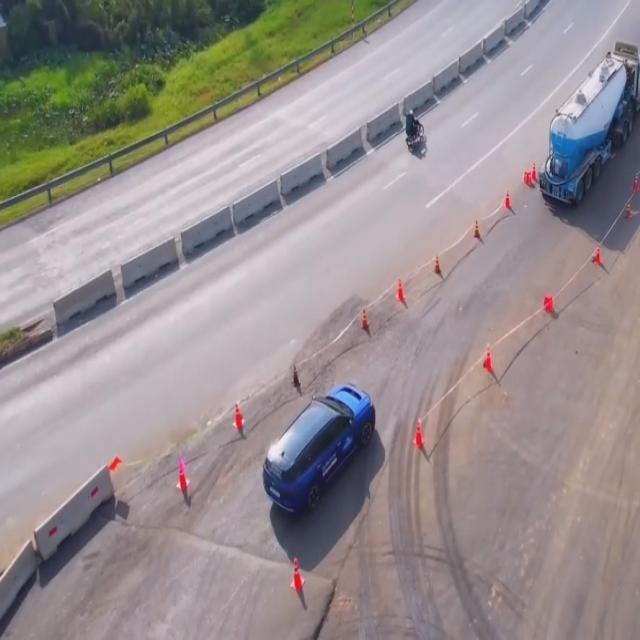car: (265, 382, 381, 522)
motorbike: (405, 110, 425, 152)
truck: (533, 45, 637, 216)
